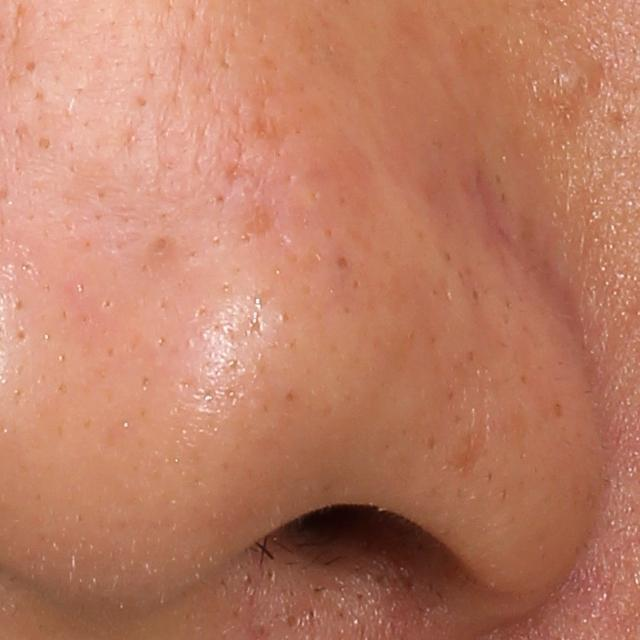comedo: (559, 53, 605, 102), (281, 610, 302, 631), (21, 57, 40, 76), (35, 132, 53, 151), (335, 254, 351, 270)
